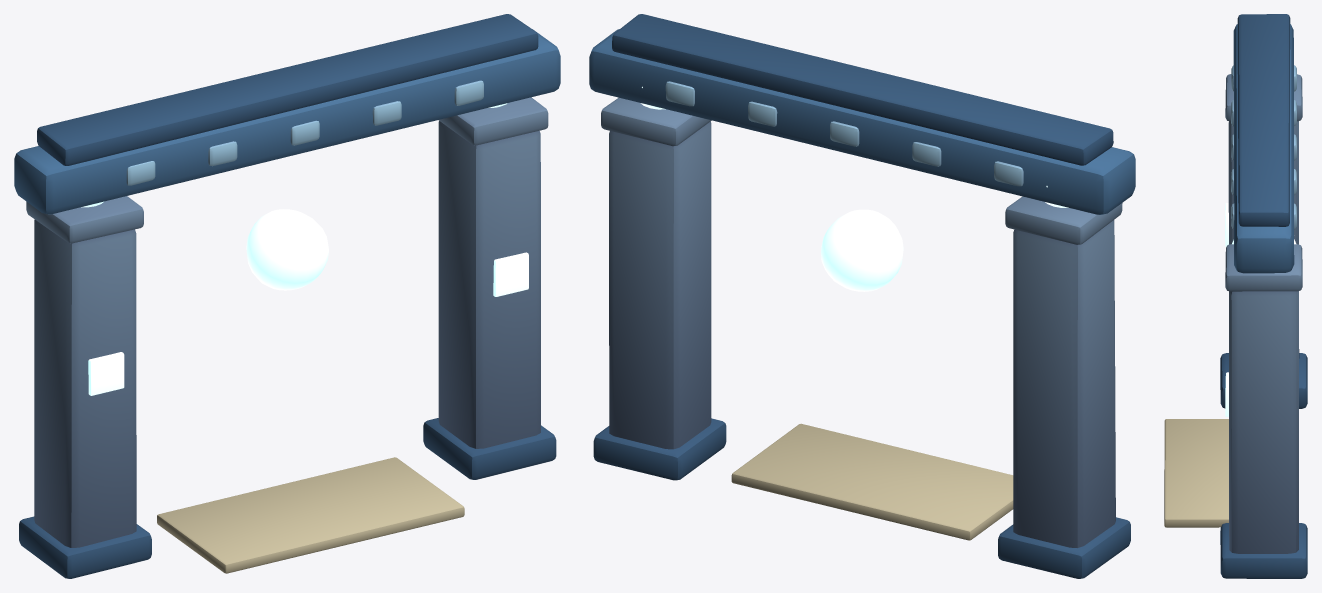
The picture shows the model from 3 angles, left to right: view 1: azimuth 30°, elevation 25°; view 2: azimuth 150°, elevation 25°; view 3: azimuth 270°, elevation 25°; orthographic projection. The views are drawn at different scales.
Visible parts, largest first — view 1: gate_07d839de; view 2: gate_07d839de; view 3: gate_07d839de.
Part boxes in pixels (bbox=[...]): gate_07d839de: bbox=[14, 14, 560, 578]; gate_07d839de: bbox=[589, 14, 1135, 578]; gate_07d839de: bbox=[1164, 14, 1307, 578].
Size of the model in its own units: 5.19 by 4.05 by 1.44.
